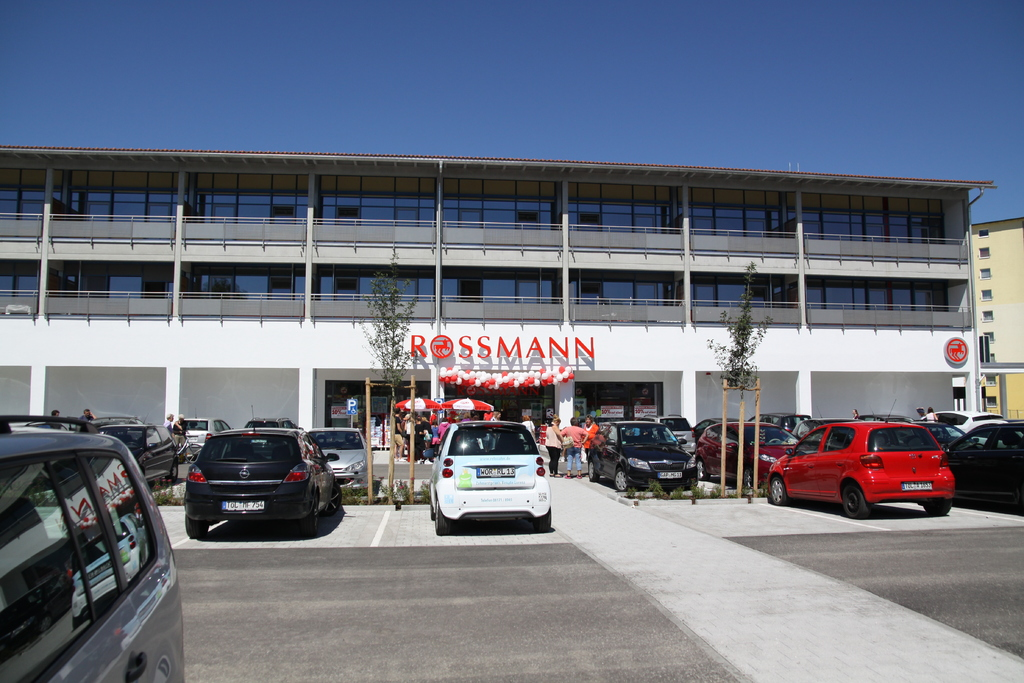Car: (0, 405, 1023, 682)
